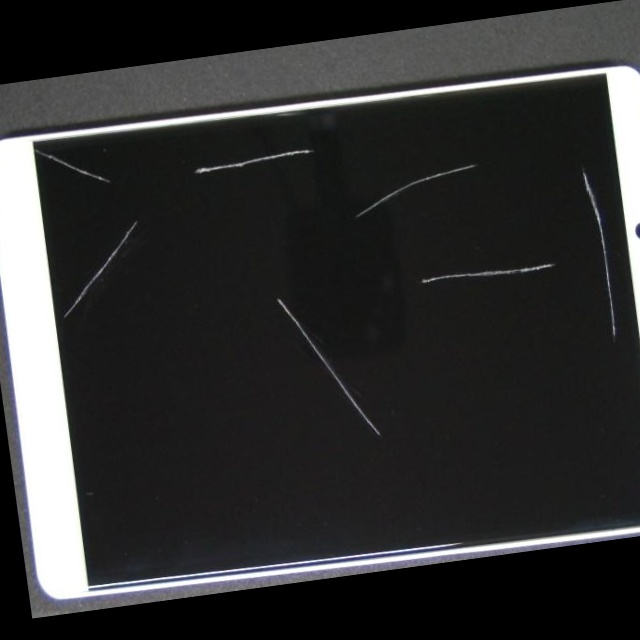scratch: (57, 72, 476, 544), (252, 0, 640, 398), (292, 46, 640, 254), (213, 74, 438, 200), (70, 150, 240, 313), (0, 73, 112, 239)
